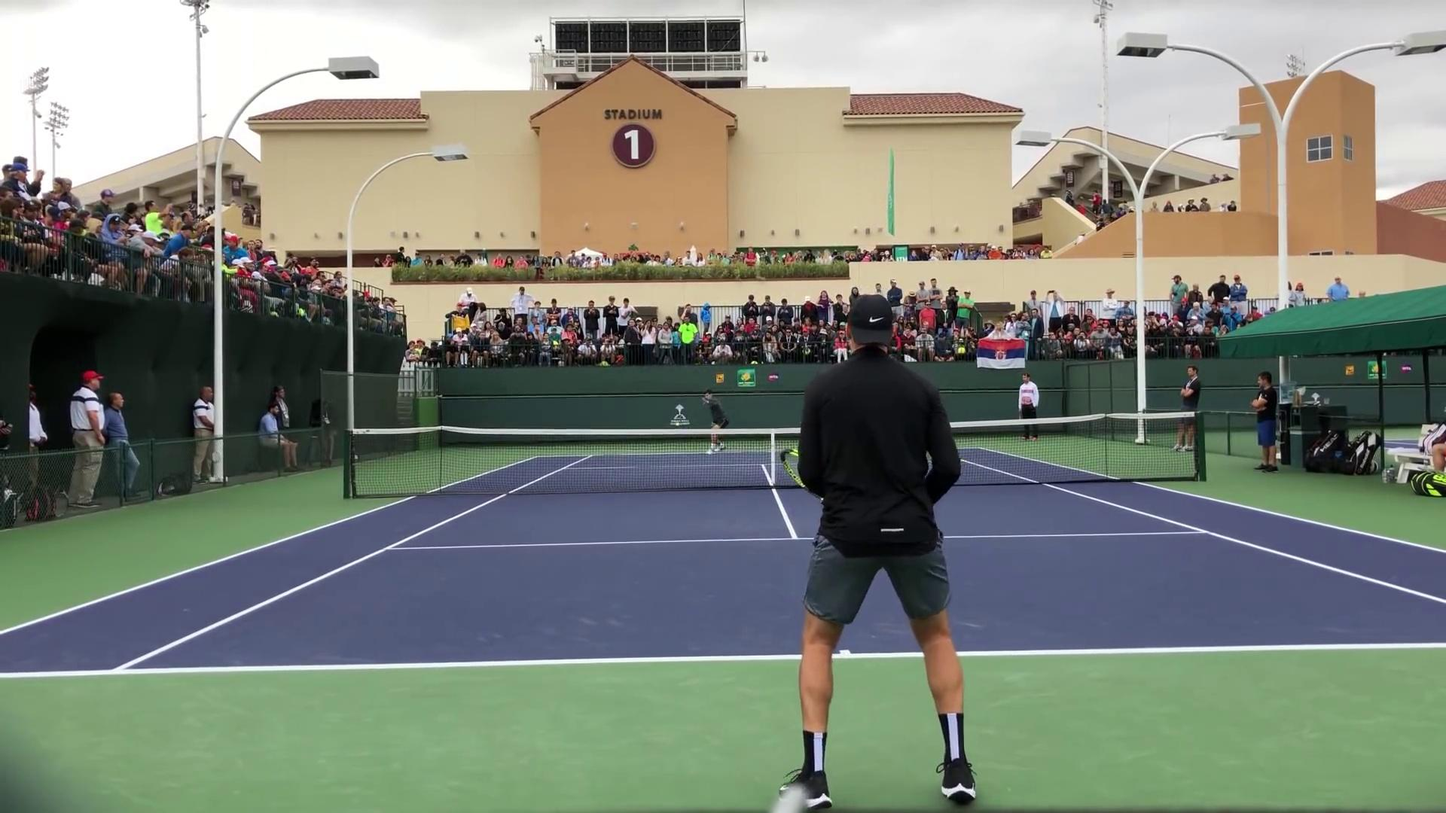ball: (674, 422, 680, 427)
